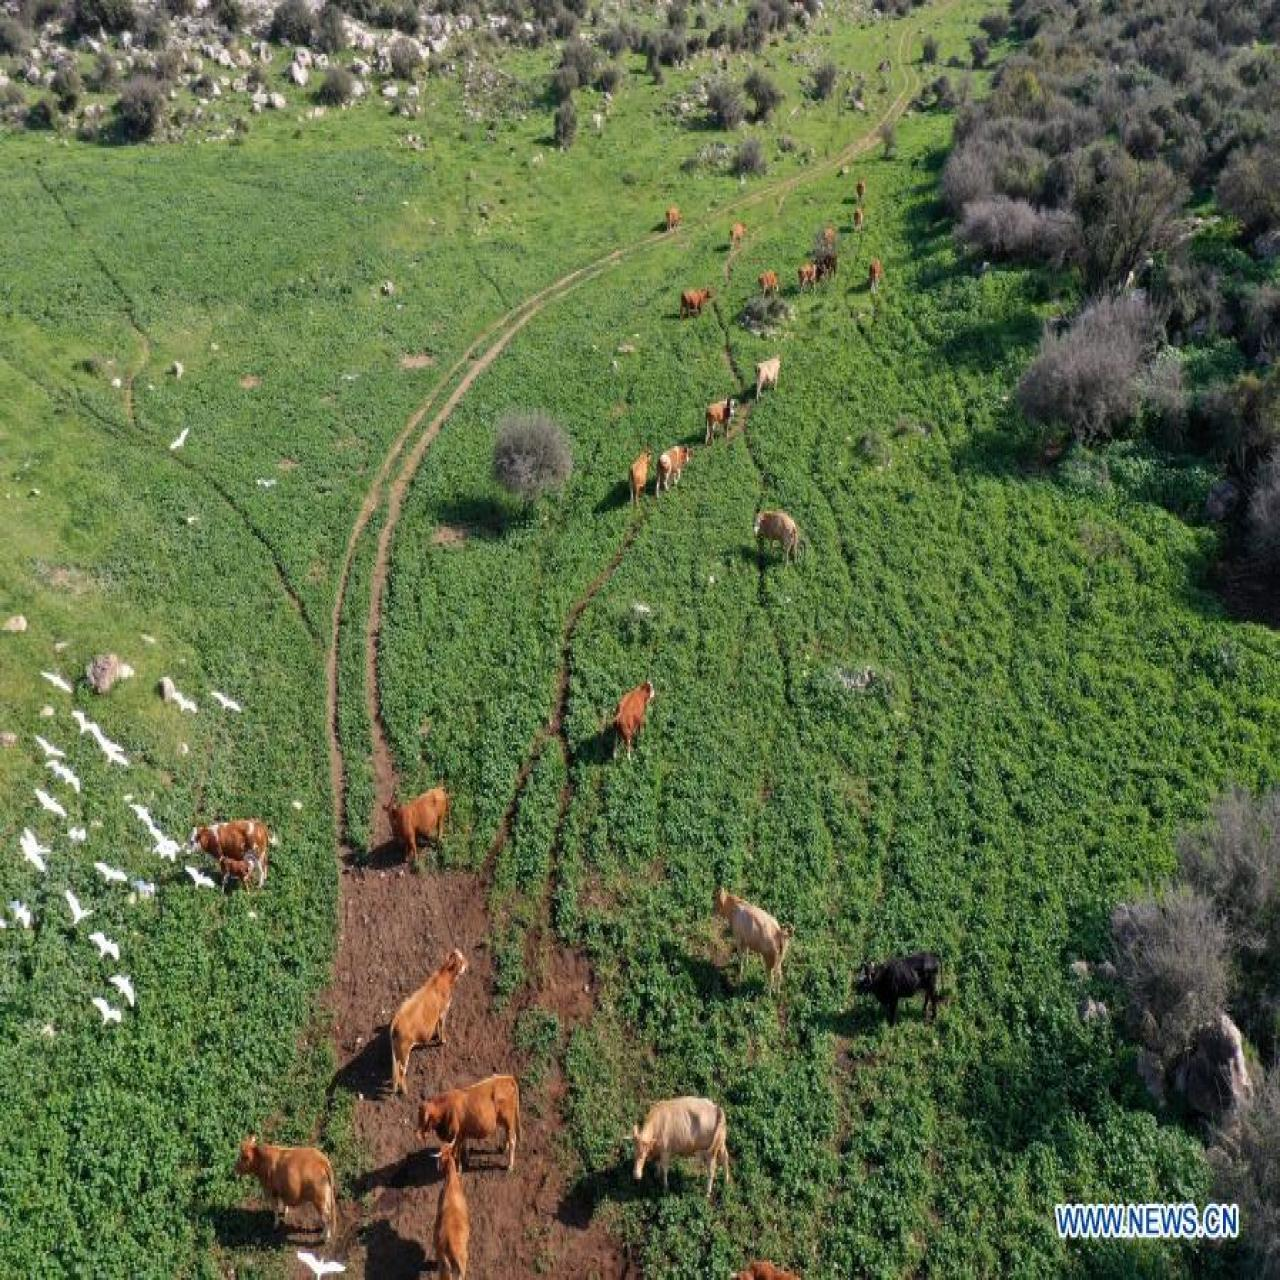cow: (408, 1062, 527, 1184), (621, 1095, 738, 1207), (379, 949, 470, 1085), (236, 1141, 340, 1251), (708, 877, 790, 996), (178, 801, 274, 897), (421, 1135, 484, 1274), (862, 948, 947, 1028), (384, 779, 456, 869), (614, 667, 665, 754), (751, 502, 804, 578), (216, 852, 260, 908), (673, 272, 714, 327), (658, 428, 694, 490), (753, 343, 784, 409), (624, 440, 656, 502), (701, 396, 740, 447), (795, 252, 822, 298), (660, 197, 689, 232), (756, 264, 781, 304), (723, 220, 748, 259), (863, 247, 884, 288), (849, 204, 874, 234), (852, 176, 872, 212)
